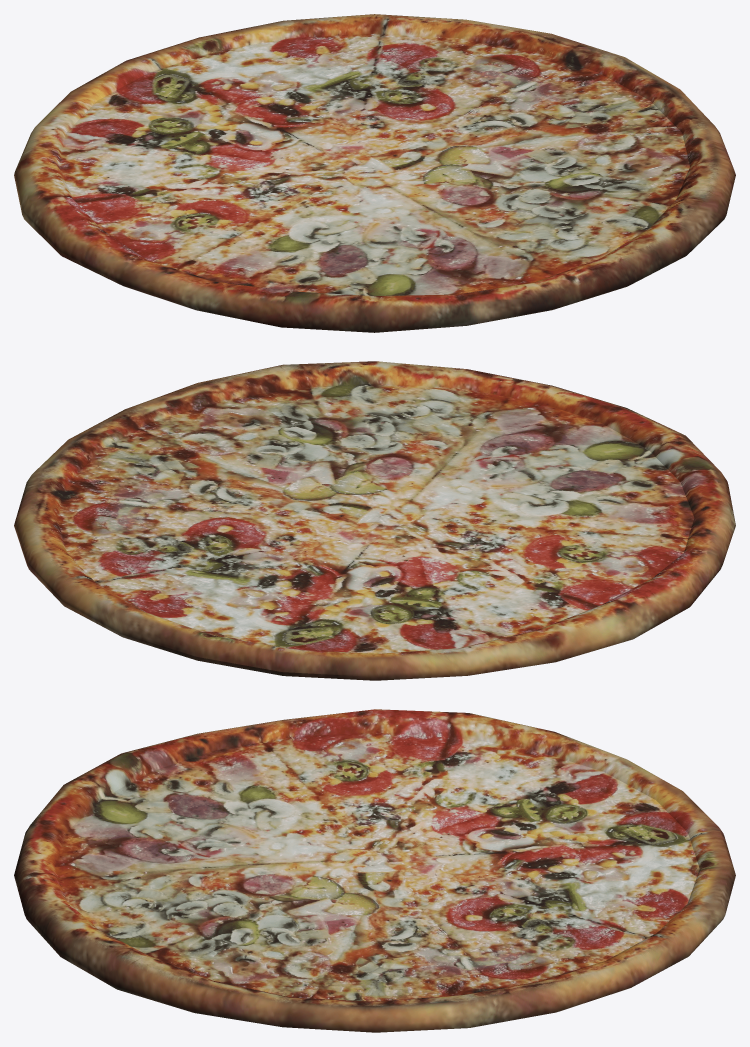
The model's file is Pizza.fbx.
3 renders of one model, top to bottom at view 1: azimuth 30°, elevation 25°; view 2: azimuth 150°, elevation 25°; view 3: azimuth 270°, elevation 25°, orthographic.
Parts seen in each view (by area): view 1: Pizza; view 2: Pizza; view 3: Pizza.
Part boxes in pixels (x1,y1,x2,y2): Pizza: (14,14,735,332); Pizza: (14,361,735,680); Pizza: (14,709,735,1032).
Size of the model in its own units: 30.45 by 1.24 by 30.09.
1 material, 1 textured.
